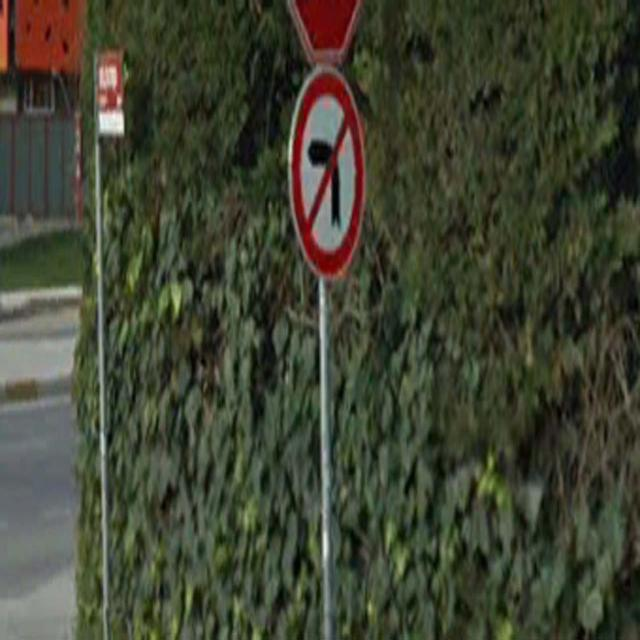soladonulmez: (288, 66, 366, 281)
